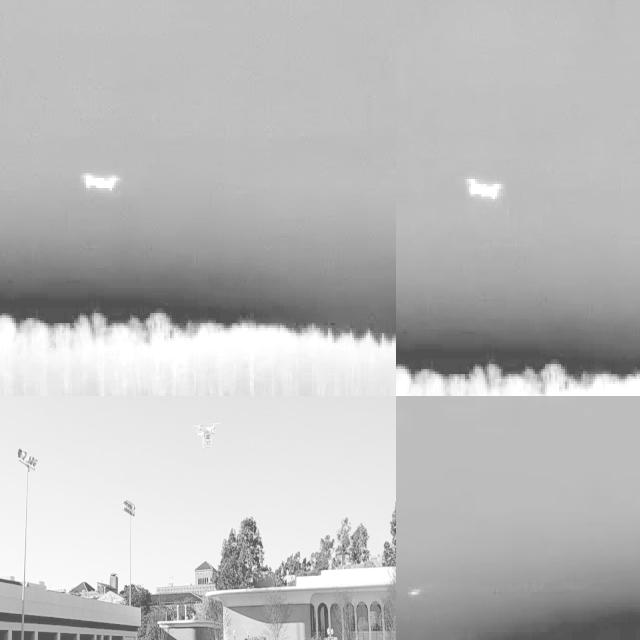0: (402, 579, 426, 607)
1: (69, 166, 129, 202), (453, 174, 513, 209)
drone: (192, 417, 219, 447)
